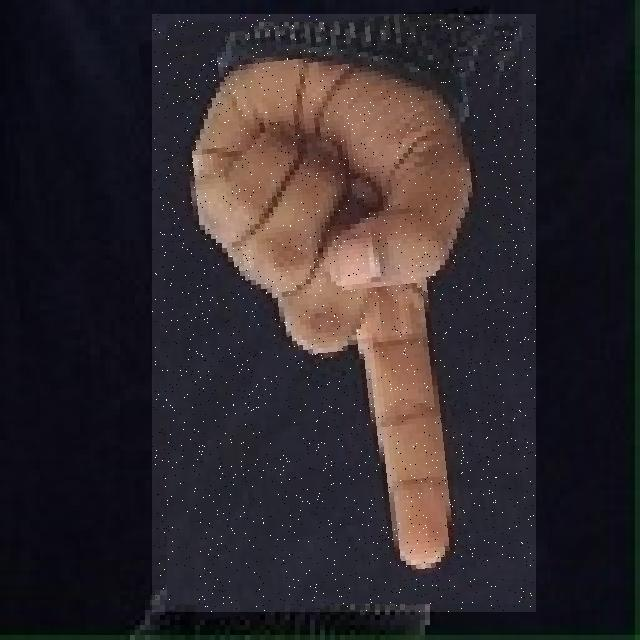IloveYou: (153, 14, 536, 612)
